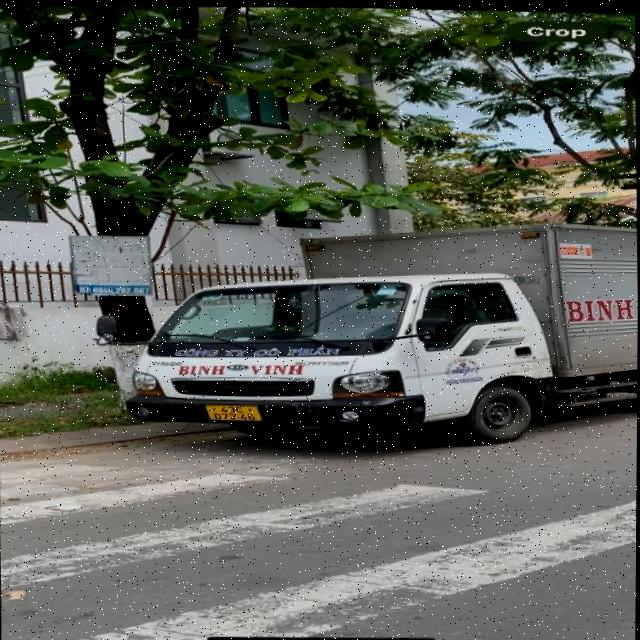car: (116, 194, 639, 460)
plate: (196, 395, 269, 430)
